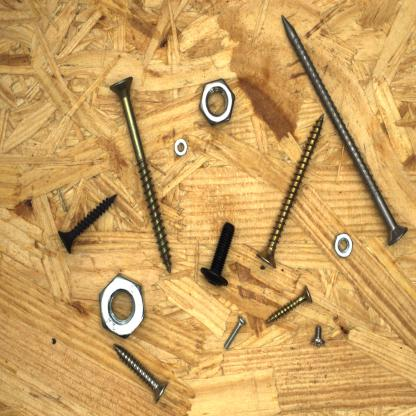screw: (279, 11, 411, 248), (107, 74, 173, 276), (252, 111, 326, 271), (56, 190, 120, 255), (111, 340, 170, 406), (197, 217, 237, 289), (262, 283, 314, 327), (220, 310, 250, 352), (307, 322, 329, 349)
